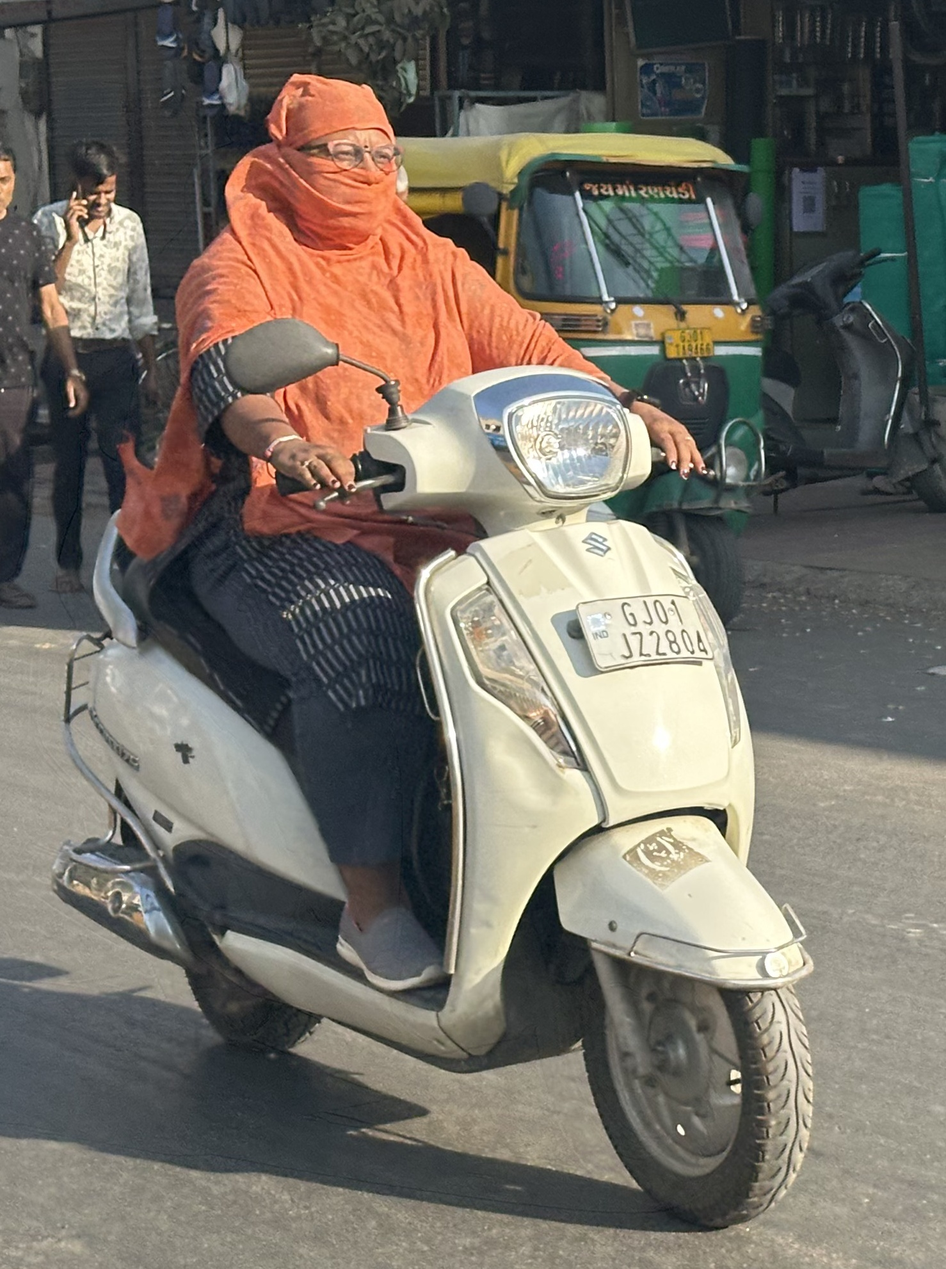NoHelmet: (33, 59, 836, 1243), (236, 60, 422, 252)
